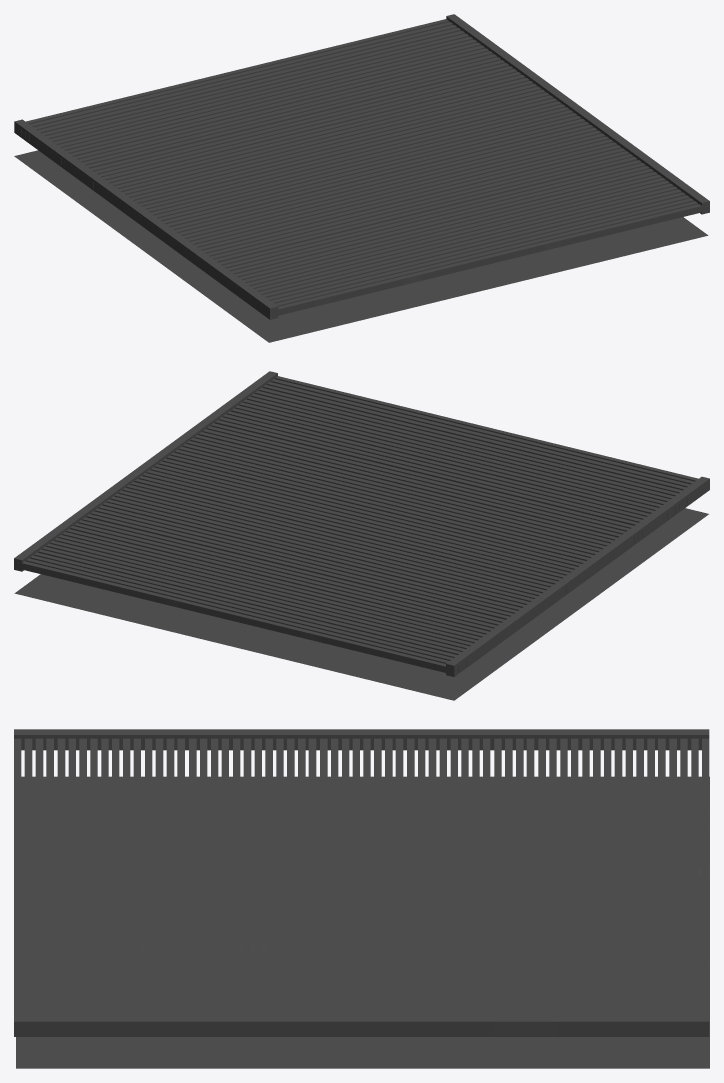
File: Spy_Floors_Textured.fbx
3 views of the same model, one above another, from view 1: azimuth 30°, elevation 25°; view 2: azimuth 150°, elevation 25°; view 3: azimuth 270°, elevation 25° (orthographic). The views are drawn at different scales.
Visible parts, largest first — view 1: LightGrate_Prefab; view 2: LightGrate_Prefab; view 3: LightGrate_Prefab.
Boxes of the visible parts, x1,y1,x2,y2 form: LightGrate_Prefab: [14, 14, 709, 342]; LightGrate_Prefab: [14, 371, 709, 700]; LightGrate_Prefab: [14, 729, 709, 1068].
Bounding box in the file's own units: 3 × 0.227 × 3.02.
